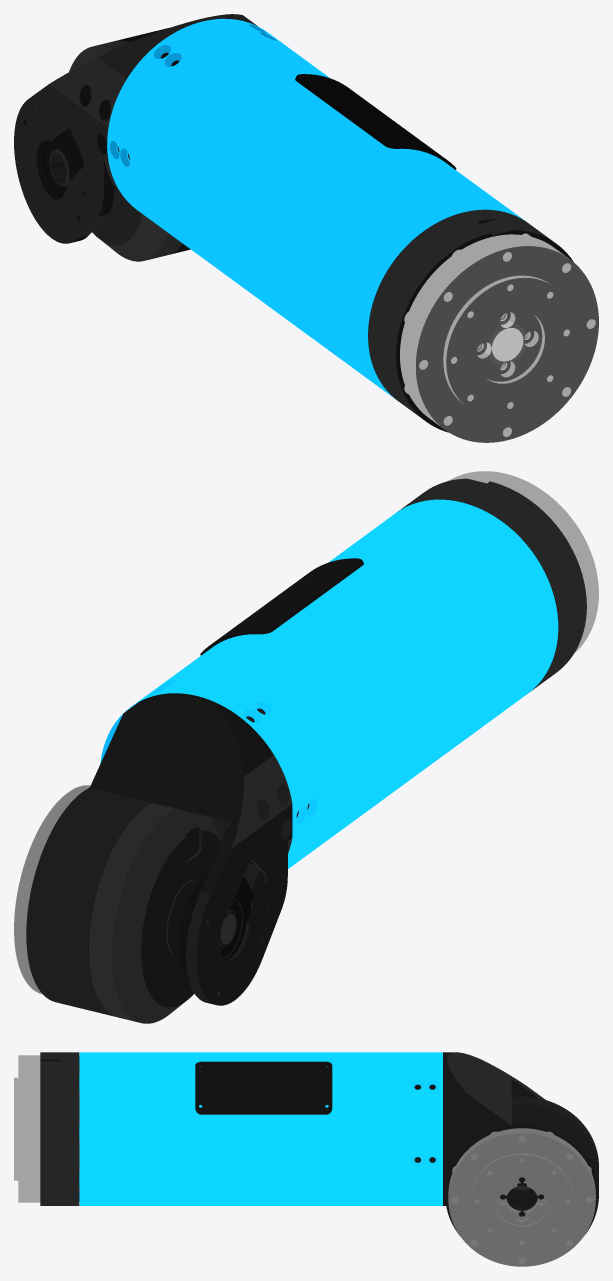
The picture shows the model from 3 angles, top to bottom: view 1: azimuth 30°, elevation 25°; view 2: azimuth 150°, elevation 25°; view 3: azimuth 270°, elevation 25°; orthographic projection. The views are drawn at different scales.
Parts seen in each view (by area): view 1: node10, node1, node2, node12, node6, node13, node8, node5, node11, node7; view 2: node10, node8, node6, node2, node12, node13, node1, node3, node5, node4, node0; view 3: node10, node3, node8, node13, node12, node1, node6, node2.
Part boxes in pixels (x1,y1,x2,y2): node10: [107, 18, 524, 398]; node1: [400, 233, 598, 442]; node2: [14, 58, 126, 243]; node12: [368, 209, 573, 432]; node6: [69, 40, 182, 261]; node13: [295, 74, 456, 169]; node8: [97, 14, 258, 254]; node5: [40, 128, 83, 198]; node11: [477, 313, 528, 368]; node7: [49, 149, 69, 185]; node10: [100, 499, 558, 868]; node8: [26, 693, 309, 1016]; node6: [89, 803, 222, 1023]; node2: [186, 755, 292, 1005]; node12: [398, 478, 586, 692]; node13: [200, 558, 363, 655]; node1: [448, 471, 598, 653]; node3: [14, 785, 90, 994]; node5: [186, 877, 253, 959]; node4: [169, 880, 198, 958]; node0: [179, 872, 208, 974]; node10: [79, 1052, 442, 1205]; node3: [448, 1128, 595, 1266]; node8: [414, 1052, 598, 1235]; node13: [195, 1061, 332, 1114]; node12: [40, 1052, 79, 1205]; node1: [14, 1055, 40, 1202]; node6: [500, 1096, 598, 1207]; node2: [486, 1062, 545, 1099].
Size of the model in its own units: 73 by 98.26 by 278.
